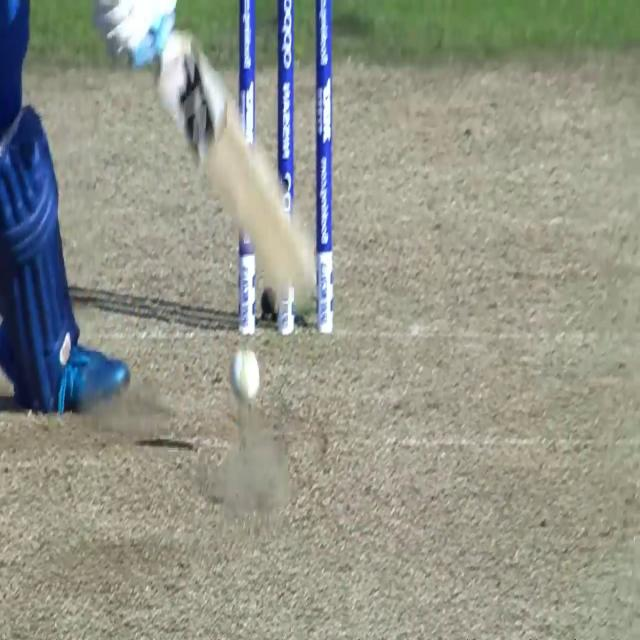ball: (218, 326, 268, 421)
